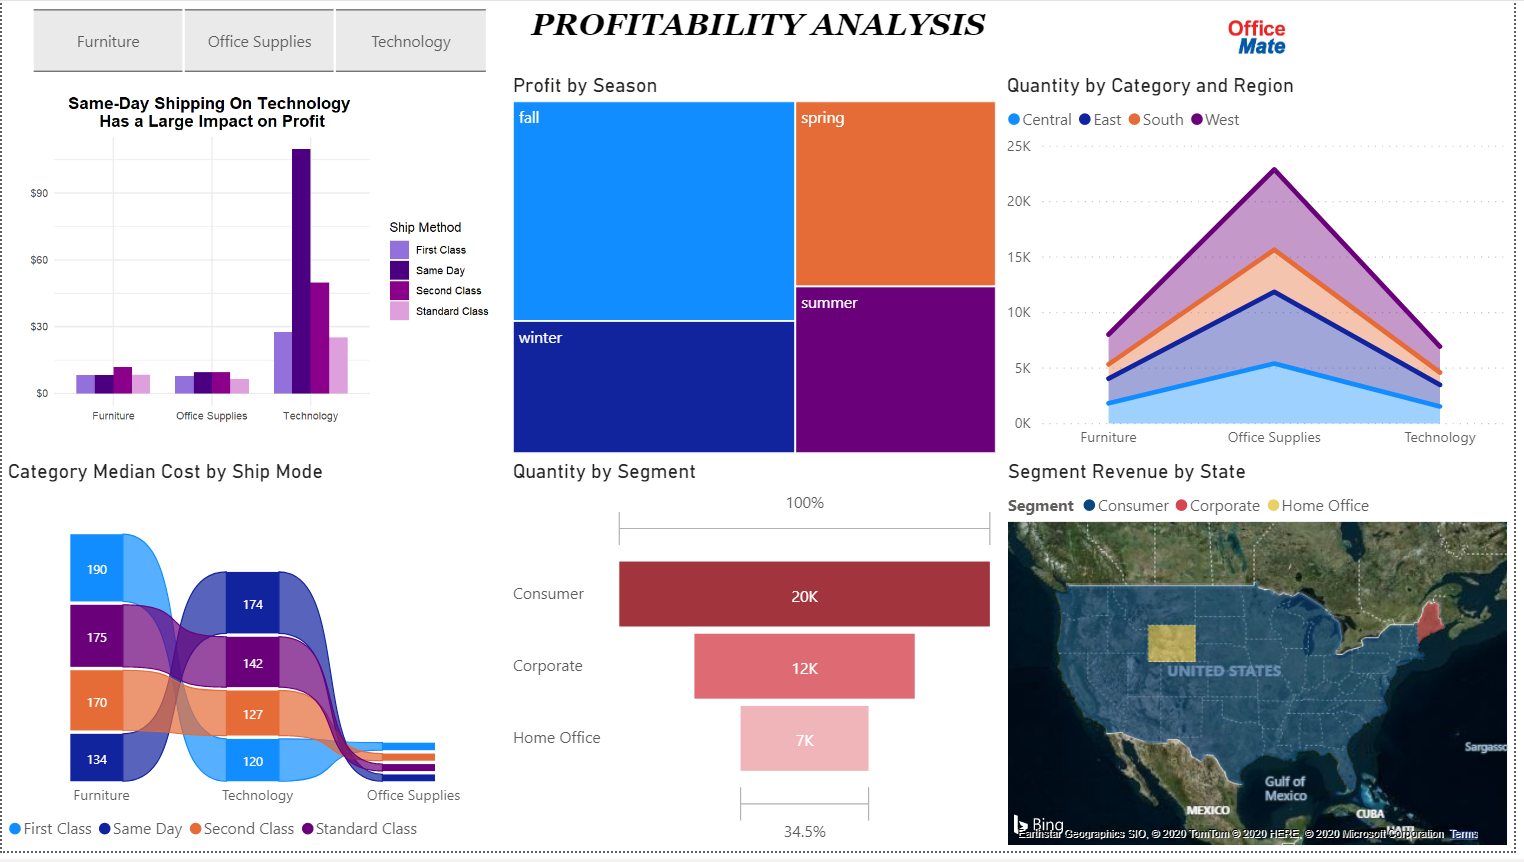

The page's visual inventory and layout, read from the dashboard file:
{"tool":"powerbi","page":{"name":"Page 1","canvas":[1280,720],"ordinal":0},"visuals":[{"type":"stackedAreaChart","fields":{"Category":["od.Category"],"Series":["od.Region"],"Y":["Sum(od.Quantity)"]},"box":[846.5,61.2,433.5,326.5],"z":0},{"type":"scriptVisual","fields":{"Values":["od.Category","od.Ship.Mode","od.Segment","od.Quantity","od.Profit"]},"box":[0.8,61,427.6,327],"z":1000},{"type":"treemap","fields":{"Group":["od.Season"],"Values":["Sum(od.Profit)"]},"box":[427.6,61,419.3,327],"z":2000},{"type":"funnel","fields":{"Category":["od.Segment"],"Y":["Sum(od.Quantity)"]},"box":[428,388,419,332],"z":3000},{"type":"ribbonChart","title":"Category Median Cost by Ship Mode","fields":{"Category":["od.Category"],"Y":["Median(od.cost)"],"Series":["od.Ship.Mode"]},"box":[0,388,433.3,332],"z":4000},{"type":"filledMap","title":"Segment Revenue by State","fields":{"Series":["od.Segment"],"Category":["od.State"]},"box":[847,388,433,332],"z":5000},{"type":"textbox","box":[433.5,0,413.9,61.2],"z":5001},{"type":"image","box":[846.5,0,433.5,61.2],"z":5003},{"type":"slicer","fields":{"Values":["od.Category"]},"box":[0.8,0,432.7,66.9],"z":5004}]}

Visuals, with their boxes in screenshot pixels (x1, y1, x2, y2), scaled from the page's 1280x720 canvas onto the 1524x862 screenshot:
stackedAreaChart - od.Category x od.Region: 1008 73 1523 464
scriptVisual - od.Category x od.Ship.Mode: 1 73 510 465
treemap - od.Season x Sum(od.Profit): 509 73 1008 465
funnel - od.Segment x Sum(od.Quantity): 510 465 1008 861
"Category Median Cost by Ship Mode" ribbonChart: 0 465 516 861
"Segment Revenue by State" filledMap: 1008 465 1523 861
textbox: 516 0 1009 73
image: 1008 0 1523 73
slicer - od.Category: 1 0 516 80
